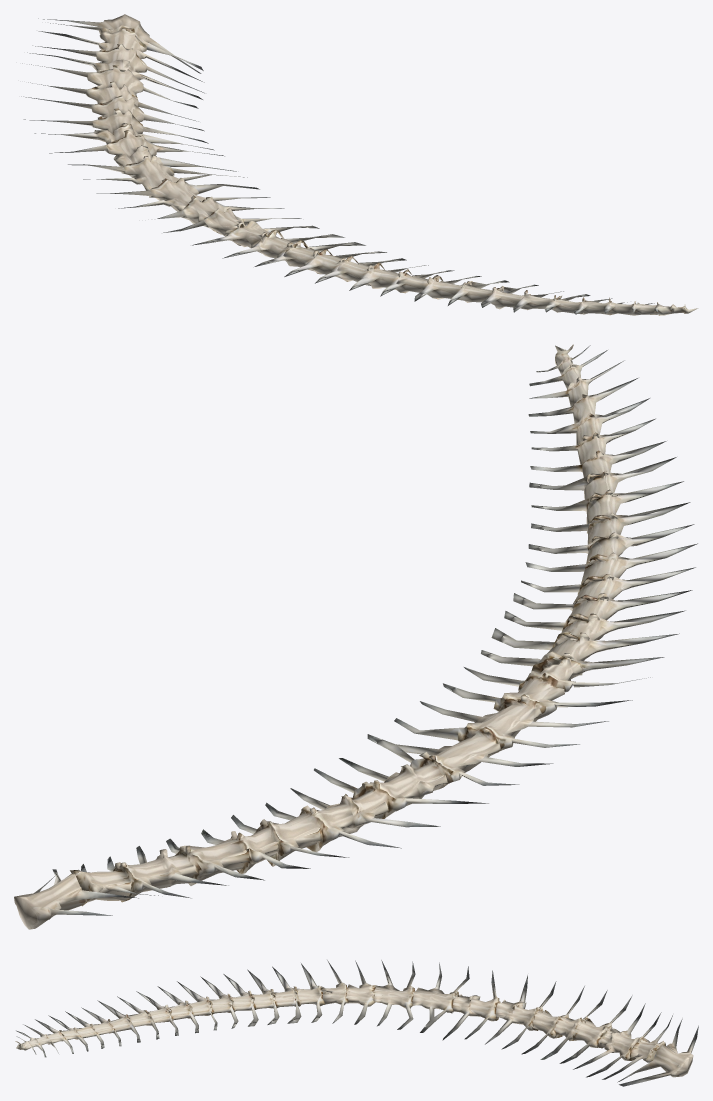
The model's file is option3.glb.
3 views of the same model, one above another, from view 1: azimuth 30°, elevation 25°; view 2: azimuth 150°, elevation 25°; view 3: azimuth 270°, elevation 25° (orthographic). The views are drawn at different scales.
Parts seen in each view (by area): view 1: tripo_node_c13f962c-4199-4c74-b2ae-8523bc01fd97; view 2: tripo_node_c13f962c-4199-4c74-b2ae-8523bc01fd97; view 3: tripo_node_c13f962c-4199-4c74-b2ae-8523bc01fd97.
Boxes of the visible parts, x1,y1,x2,y2 form: tripo_node_c13f962c-4199-4c74-b2ae-8523bc01fd97: (21, 14, 698, 315); tripo_node_c13f962c-4199-4c74-b2ae-8523bc01fd97: (14, 344, 697, 929); tripo_node_c13f962c-4199-4c74-b2ae-8523bc01fd97: (15, 960, 698, 1086).
Bounding box in the file's own units: 0.4228 × 0.1136 × 1.18.
Materials: 1 (1 with a texture image).
